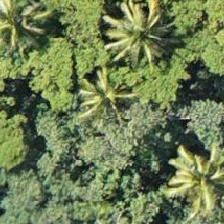coconut_tree: (61, 57, 151, 147), (95, 0, 185, 79), (153, 138, 223, 223), (0, 0, 54, 70)
